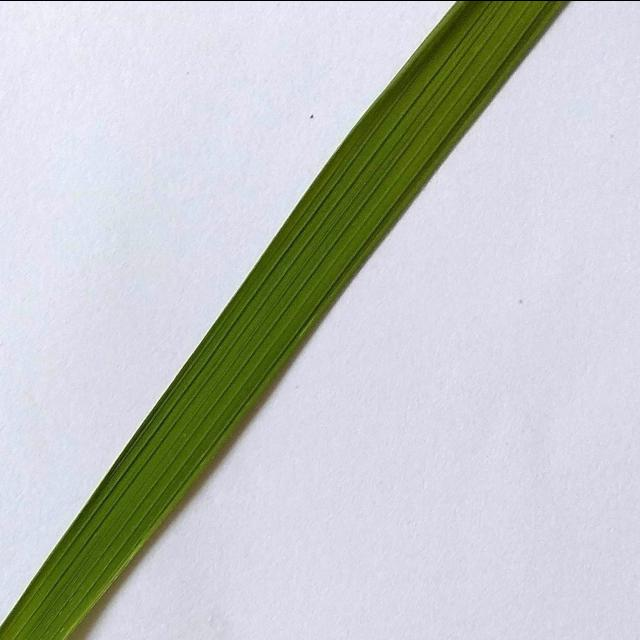healthy: (0, 0, 599, 640)
